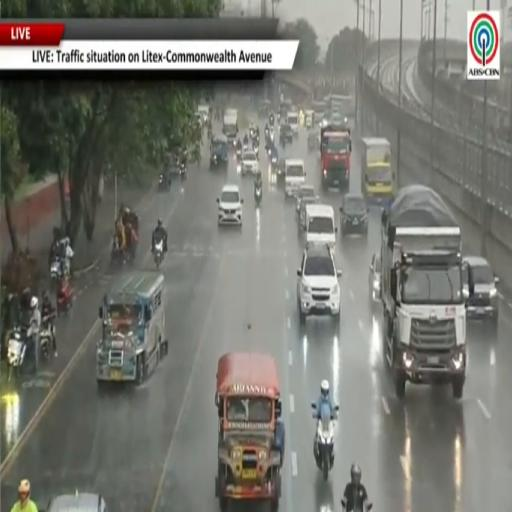car: (297, 245, 341, 325), (463, 256, 498, 326), (44, 492, 106, 511), (340, 194, 368, 236), (217, 185, 243, 226), (285, 158, 305, 199), (298, 197, 318, 231), (296, 185, 316, 213), (369, 254, 380, 302), (241, 151, 259, 175), (280, 123, 293, 145), (276, 158, 285, 184)
jeepney: (215, 352, 284, 510), (96, 271, 167, 385), (361, 138, 395, 205)
motorcycle: (312, 404, 334, 481), (8, 327, 31, 381), (39, 318, 55, 359), (341, 499, 372, 511), (50, 258, 62, 283), (154, 240, 163, 269), (158, 174, 170, 190), (254, 186, 262, 206), (180, 164, 187, 181), (270, 155, 278, 169), (270, 130, 274, 142), (243, 143, 248, 152), (269, 116, 274, 125), (265, 128, 269, 139), (237, 148, 241, 158)
truck: (381, 185, 466, 398), (320, 124, 351, 190), (223, 109, 238, 148)
